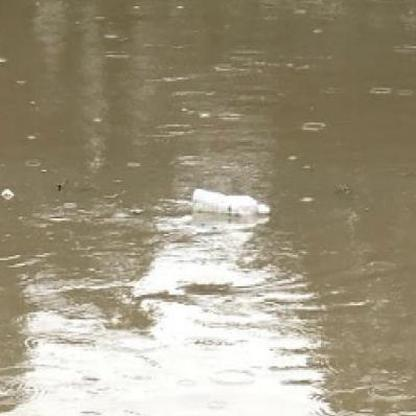plastic bottle: (192, 189, 269, 216)
